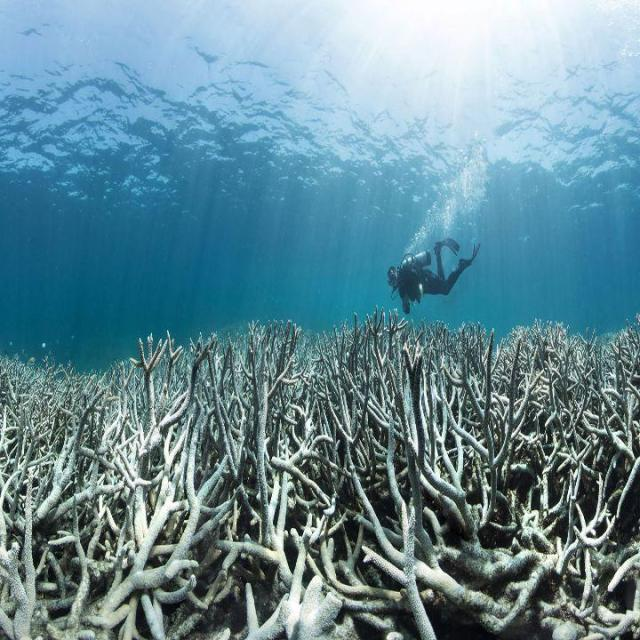Dead Coral: (24, 348, 615, 599)
